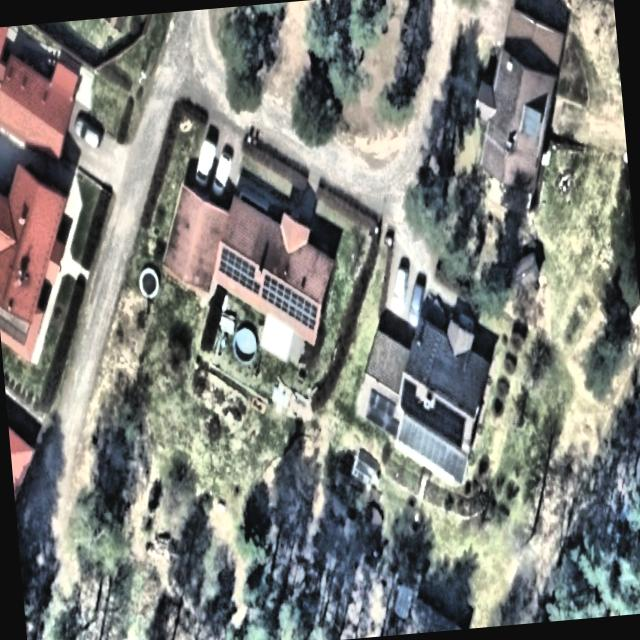roof_pv: (217, 243, 260, 306), (358, 385, 401, 446), (255, 271, 305, 320), (293, 294, 323, 338)
